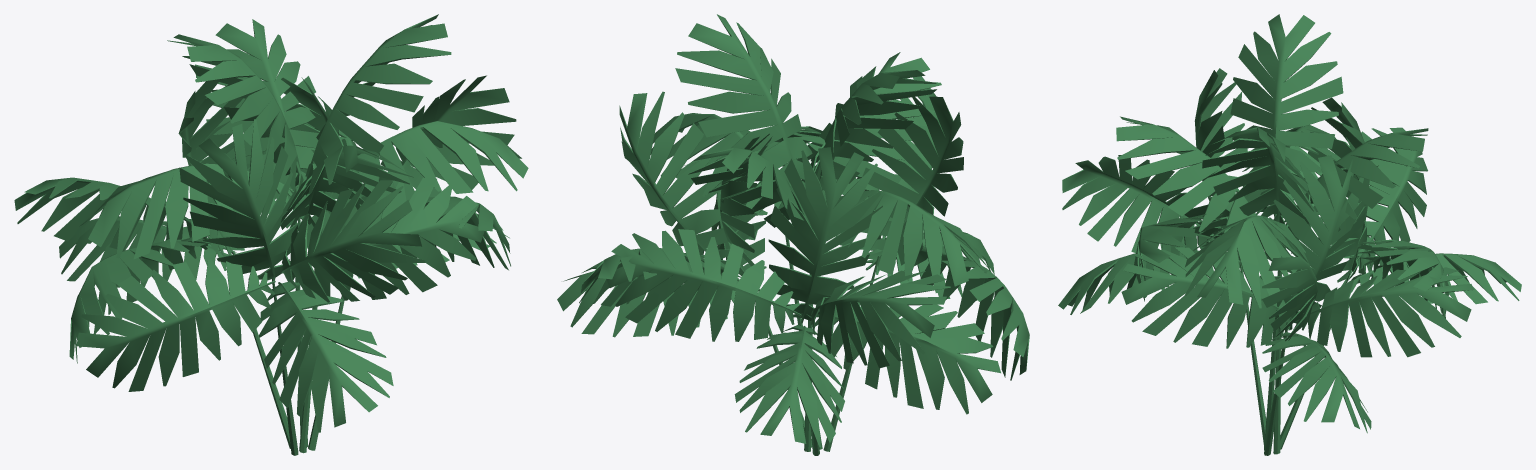
File: tropical_small01.fbx
3 renders of one model, left to right at view 1: azimuth 30°, elevation 25°; view 2: azimuth 150°, elevation 25°; view 3: azimuth 270°, elevation 25°, orthographic. The views are drawn at different scales.
Parts seen in each view (by area): view 1: tropical_small01; view 2: tropical_small01; view 3: tropical_small01.
Boxes of the visible parts, bbox=[...] form: tropical_small01: bbox=[14, 14, 528, 455]; tropical_small01: bbox=[557, 14, 1029, 455]; tropical_small01: bbox=[1058, 14, 1521, 455].
Size of the model in its own units: 0.1864 by 0.1689 by 0.1821.
